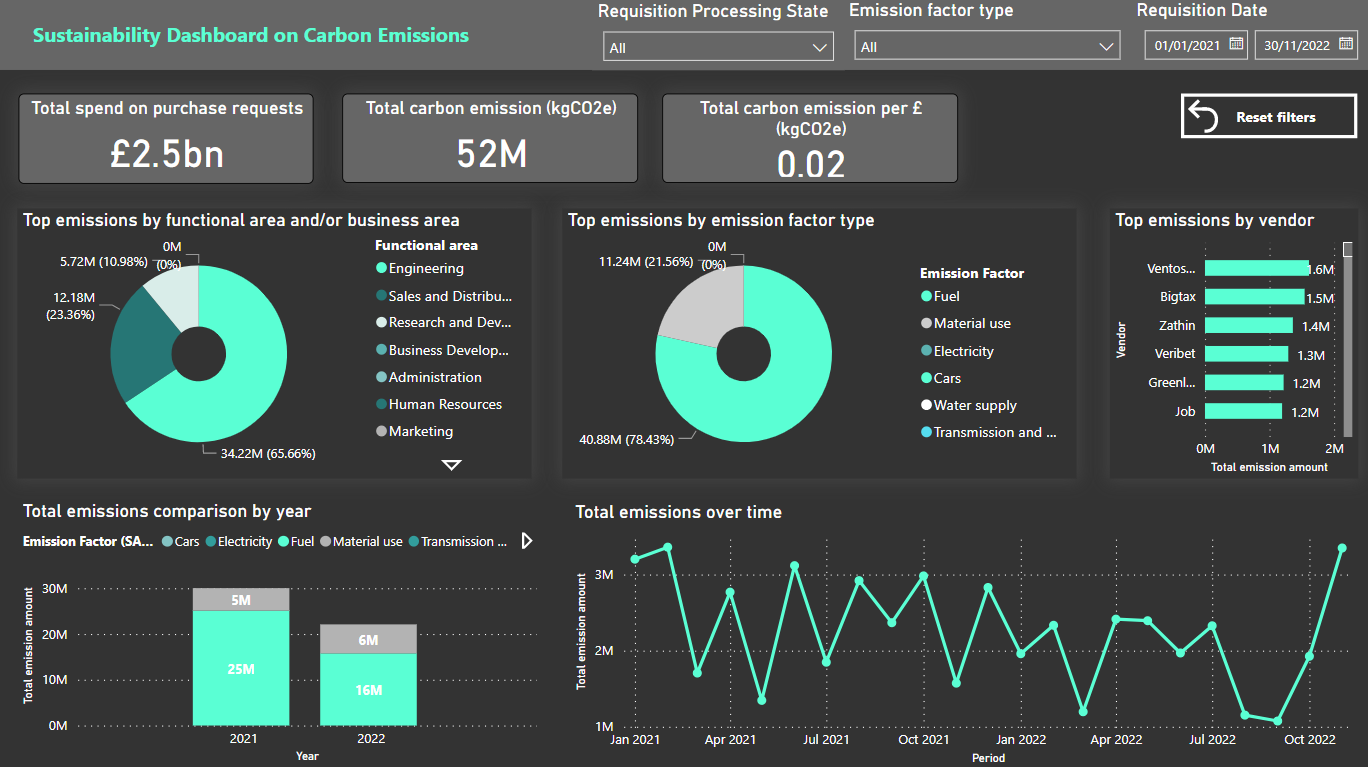

The page's visual inventory and layout, read from the dashboard file:
{"tool":"powerbi","page":{"name":"Carbon emission","canvas":[1280,720],"ordinal":0},"visuals":[{"type":"textbox","box":[0,0,1280,68.7],"z":0},{"type":"card","title":"Total spend on purchase requests","fields":{"Values":["Sum(EBAN - PR Data.Total cost per item)"]},"box":[20.6,90.6,274.7,83.8],"z":1000},{"type":"columnChart","title":"Total emissions comparison by year","fields":{"Category":["EBAN - PR Data.Requisition Date.Variation.Date Hierarchy.Year"],"Series":["Emission Activities mapping.Emission Factor (SAP Material Description)"],"Y":["Sum(EBAN - Purchase Requisition Data.Carbon emission amount per PR)"]},"box":[20.2,468.9,487.9,249.9],"z":2000},{"type":"slicer","title":"Requisition Date","fields":{"Values":["EBAN - PR Data.Requisition Date"]},"box":[1056.1,2.7,223.9,63.2],"z":3000},{"type":"slicer","title":"Emission factor type","fields":{"Values":["Emission Activities mapping.Emission Factor (SAP Material Description)"]},"box":[788.8,2.5,267.5,65],"z":4000},{"type":"donutChart","title":"Top emissions by emission factor type","fields":{"Category":["Emission Activities mapping.Emission Factor (SAP Material Description)"],"Y":["Sum(EBAN - Purchase Requisition Data.Total carbon emission amount)"]},"box":[527.2,197.4,478.4,251.1],"z":5000},{"type":"barChart","title":"Top emissions by vendor","fields":{"Category":["EBAN - PR Data.Fixed Vendor"],"Y":["Sum(EBAN - Purchase Requisition Data.Total carbon emission amount)"]},"box":[1035.4,197.4,230.9,251.1],"z":6000},{"type":"slicer","title":"Requisition Processing State","fields":{"Values":["EBAN - PR Data.Requisition Processing State"]},"box":[554.6,3.6,234.4,65.5],"z":7000},{"type":"donutChart","title":"Top emissions by functional area and/or business area","fields":{"Category":["TFKBT - functional area data.Name of the functional area","EBKN-PR Account Assignment data.Business Area"],"Y":["Sum(EBAN - Purchase Requisition Data.Total carbon emission amount)"]},"box":[20.2,197.4,478.4,251.1],"z":8000},{"type":"card","title":"Total carbon emission (kgCO2e)","fields":{"Values":["Sum(EBAN - Purchase Requisition Data.Total carbon emission amount)"]},"box":[322.5,90.4,274.9,83.3],"z":9000},{"type":"lineChart","title":"Total emissions over time","fields":{"Category":["EBAN - PR Data.Requisition Date.Variation.Date Hierarchy.Year","EBAN - Purchase Requisition Data.Requisition Date.Variation.Date Hierarchy.Month"],"Y":["Sum(EBAN - Purchase Requisition Data.Total carbon emission amount)"]},"box":[533.1,470.1,747.4,249.9],"z":10000},{"type":"card","title":"Total carbon emission per £ (kgCO2e)","fields":{"Values":["EBAN - Purchase Requisition Data.Total carbon emission per £"]},"box":[620,90.4,274.9,83.3],"z":11000},{"type":"actionButton","box":[1102,90.4,164.2,41.6],"z":11001}]}

Visuals, with their boxes in screenshot pixels (x1, y1, x2, y2), scaled from the page's 1280x720 canvas onto the 1368x767 screenshot:
textbox: detection(0, 0, 1367, 73)
"Total spend on purchase requests" card: detection(22, 97, 316, 186)
"Total emissions comparison by year" columnChart: detection(22, 500, 543, 766)
"Requisition Date" slicer: detection(1129, 3, 1367, 70)
"Emission factor type" slicer: detection(843, 3, 1129, 72)
"Top emissions by emission factor type" donutChart: detection(563, 210, 1075, 478)
"Top emissions by vendor" barChart: detection(1107, 210, 1353, 478)
"Requisition Processing State" slicer: detection(593, 4, 843, 74)
"Top emissions by functional area and/or business area" donutChart: detection(22, 210, 533, 478)
"Total carbon emission (kgCO2e)" card: detection(345, 96, 638, 185)
"Total emissions over time" lineChart: detection(570, 501, 1367, 766)
"Total carbon emission per £ (kgCO2e)" card: detection(663, 96, 956, 185)
actionButton: detection(1178, 96, 1353, 141)
